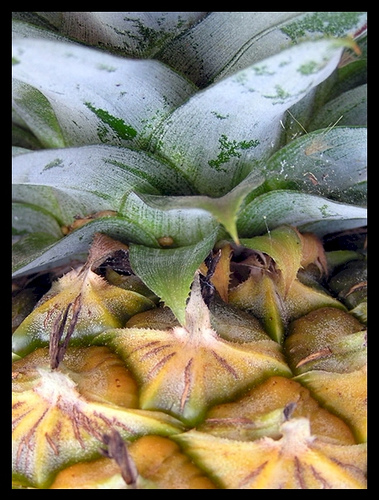pineapple: (10, 13, 365, 486)
